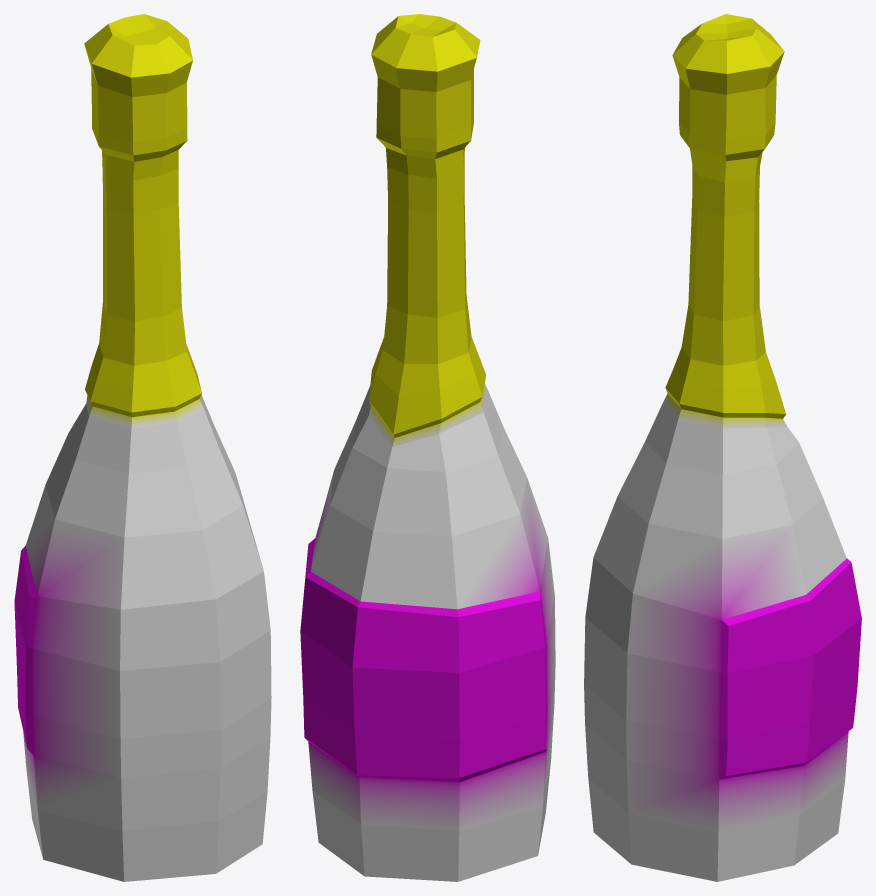
The model's file is champ_texture_3_mesh.fbx.
3 renders of one model, left to right at view 1: azimuth 30°, elevation 25°; view 2: azimuth 150°, elevation 25°; view 3: azimuth 270°, elevation 25°, orthographic.
Visible parts, largest first — view 1: Champ_Flaska; view 2: Champ_Flaska; view 3: Champ_Flaska.
Part boxes in pixels (left/top/right/bottom): Champ_Flaska: left=14, top=14, right=271, bottom=881; Champ_Flaska: left=300, top=14, right=555, bottom=881; Champ_Flaska: left=584, top=14, right=861, bottom=881.
Size of the model in its own units: 239 by 778 by 244.
